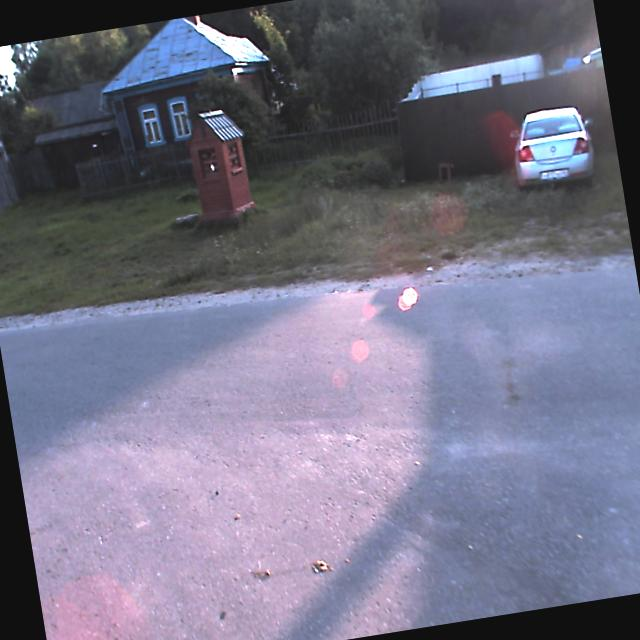road: (0, 266, 640, 640)
